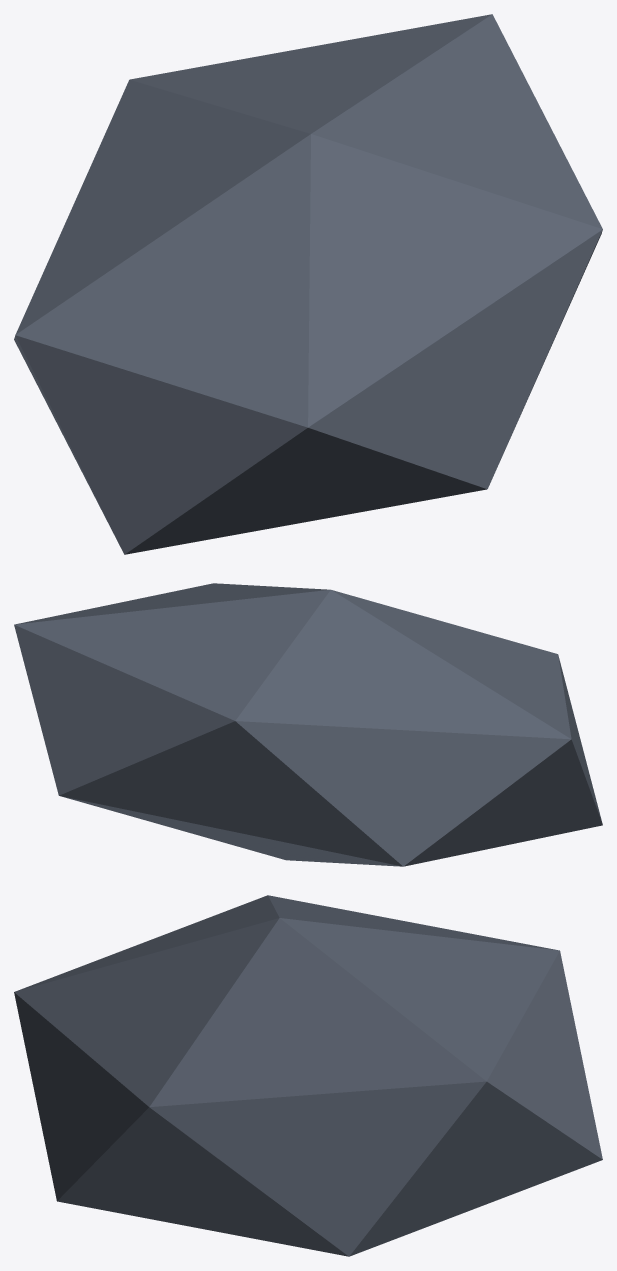
Rendered from EXTG_BranchStone_02.glb.
3 renders of one model, top to bottom at view 1: azimuth 30°, elevation 25°; view 2: azimuth 150°, elevation 25°; view 3: azimuth 270°, elevation 25°, orthographic. The views are drawn at different scales.
Visible parts, largest first — view 1: EXTG_BranchStone_02; view 2: EXTG_BranchStone_02; view 3: EXTG_BranchStone_02.
Boxes of the visible parts, x1,y1,x2,y2 form: EXTG_BranchStone_02: (14,14,602,554); EXTG_BranchStone_02: (14,583,602,866); EXTG_BranchStone_02: (14,895,602,1256).
Bounding box in the file's own units: 1.02 × 0.5108 × 0.8959.
